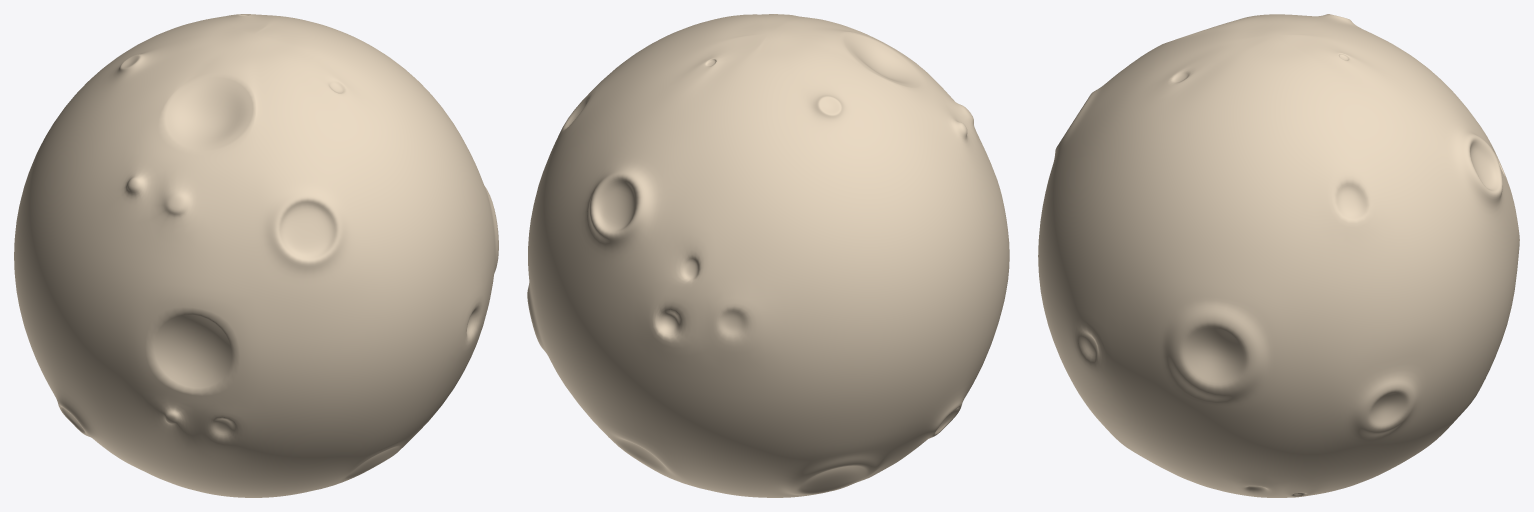
Rendered from moon_cartoon.glb.
3 renders of one model, left to right at view 1: azimuth 30°, elevation 25°; view 2: azimuth 150°, elevation 25°; view 3: azimuth 270°, elevation 25°, orthographic.
Visible parts, largest first — view 1: Moon; view 2: Moon; view 3: Moon.
Boxes of the visible parts, <box> form: Moon: <box>14,14,498,497</box>; Moon: <box>527,14,1009,497</box>; Moon: <box>1038,14,1519,497</box>.
Bounding box in the file's own units: 12.19 × 12.27 × 12.11.
